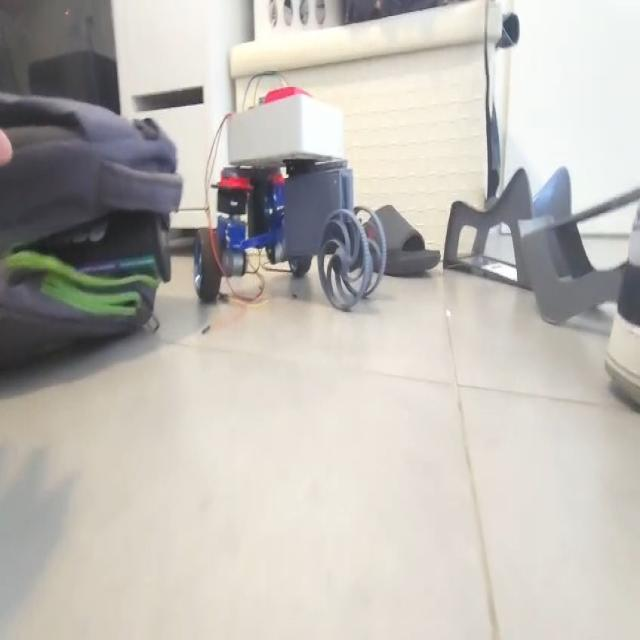Robot: (193, 84, 387, 310)
